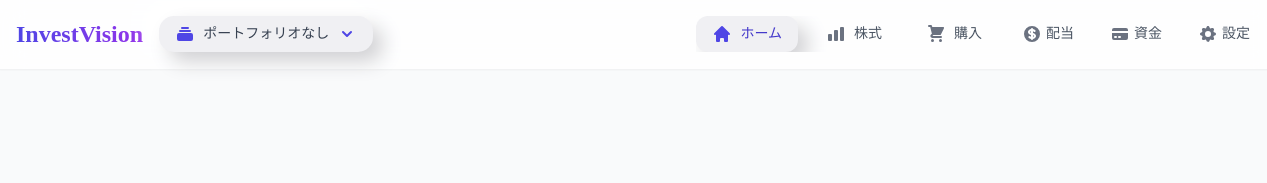
NavHeader Component › ポートフォリオが存在しない場合の表示
The image size is (1267, 183).
Expected: the text "ポートフォリオなし" is shown, [203, 24, 329, 44]
// ドロップダウンをクリック
Click the button "ポートフォリオなし" at (266, 34), box [159, 16, 373, 52]
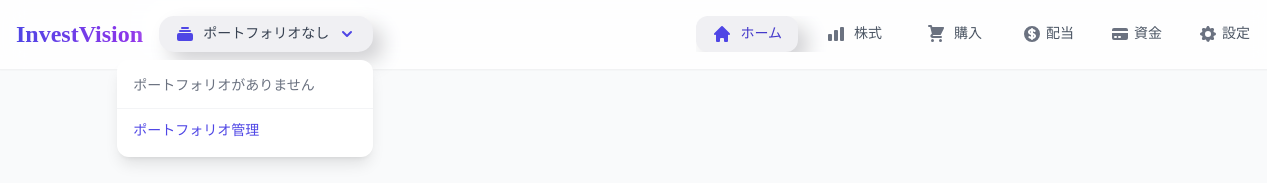
Result: the text "ポートフォリオがありません" is shown at [133, 78, 315, 93]
Result: the link "ポートフォリオ管理" is shown at [133, 123, 259, 138]
